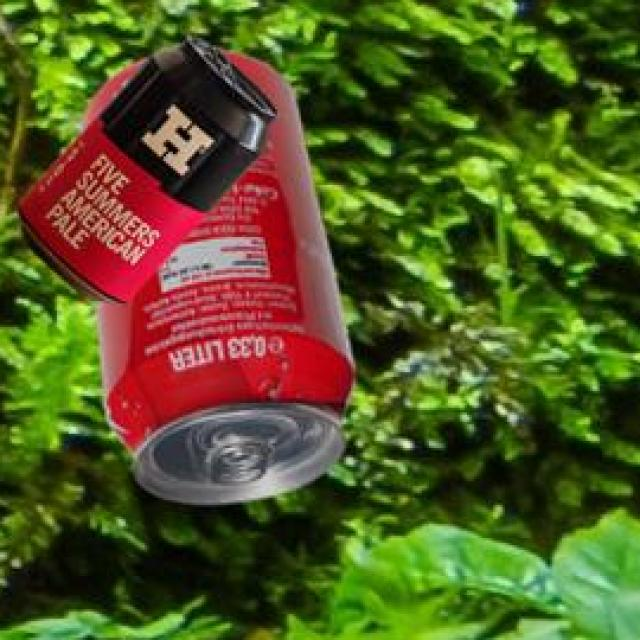logam: (78, 49, 352, 499), (13, 32, 274, 300)
